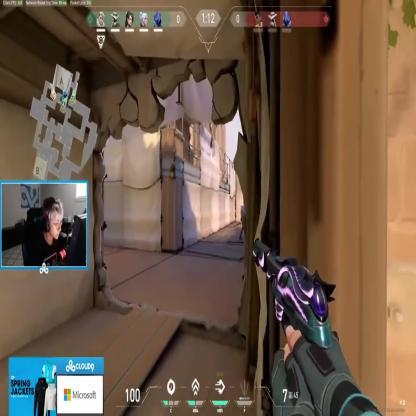enemy: (239, 199, 249, 242)
